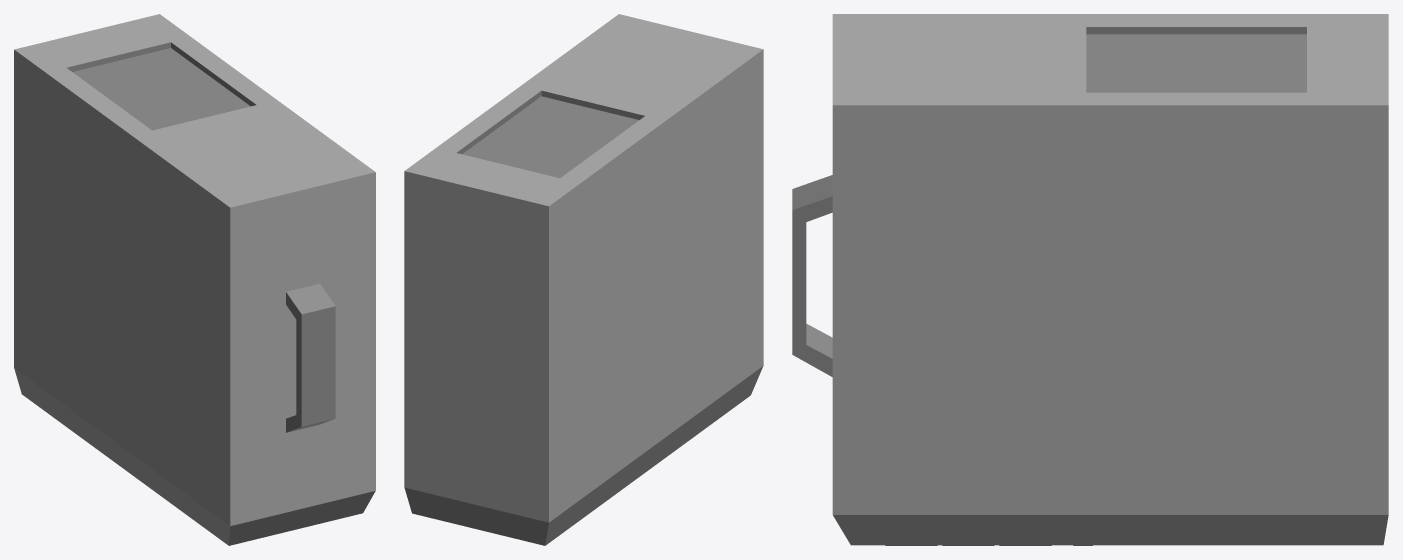
File: Pc_Case.obj
The picture shows the model from 3 angles, left to right: view 1: azimuth 30°, elevation 25°; view 2: azimuth 150°, elevation 25°; view 3: azimuth 270°, elevation 25°; orthographic projection. The views are drawn at different scales.
Parts seen in each view (by area): view 1: Pc_Case; view 2: Pc_Case; view 3: Pc_Case.
Boxes of the visible parts, box(x1,y1,x2,y2) form: Pc_Case: box(14, 14, 375, 545); Pc_Case: box(404, 14, 763, 545); Pc_Case: box(792, 14, 1388, 545).
Size of the model in its own units: 0.161 by 0.3678 by 0.444.
